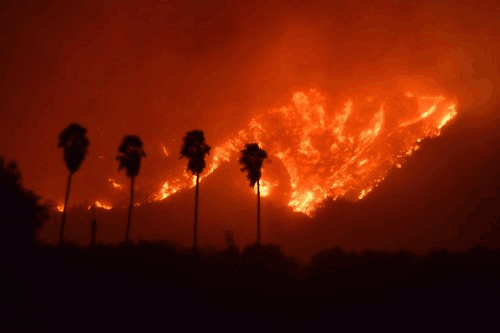fire: (282, 96, 377, 213)
smoke: (51, 15, 488, 92)
